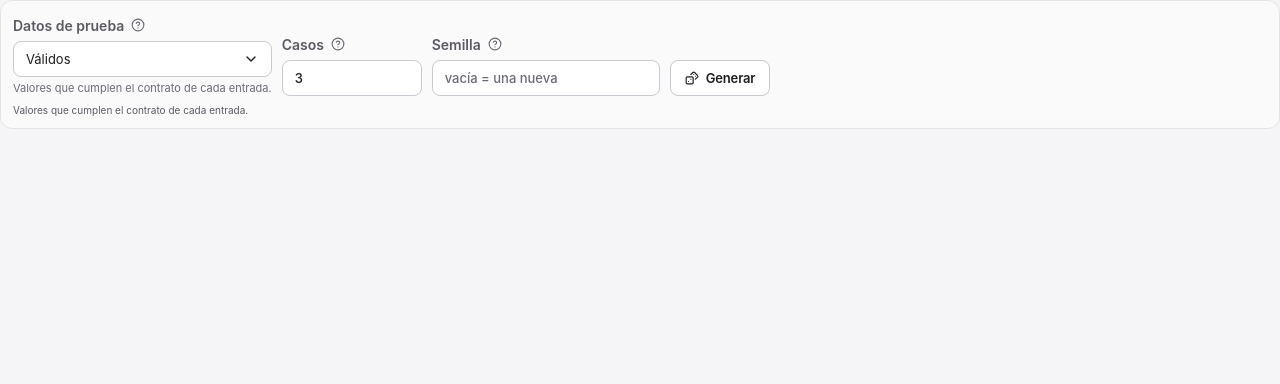
Test: generación de datos de prueba › respeta el tope de casos de cada clase
Replace the text in the number field labelled "Casos" with "99" at x=352, y=78, box [282,60,422,96]
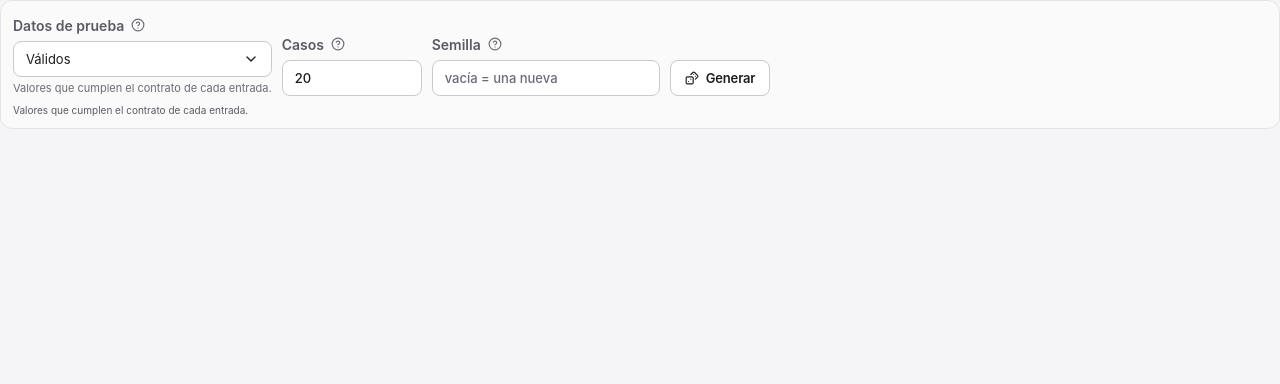
expect the number field labelled "Casos" holds "20": met, box [282,60,422,96]
Click the dropdown named "Datos de prueba" at x=142, y=59, box [13,41,272,77]
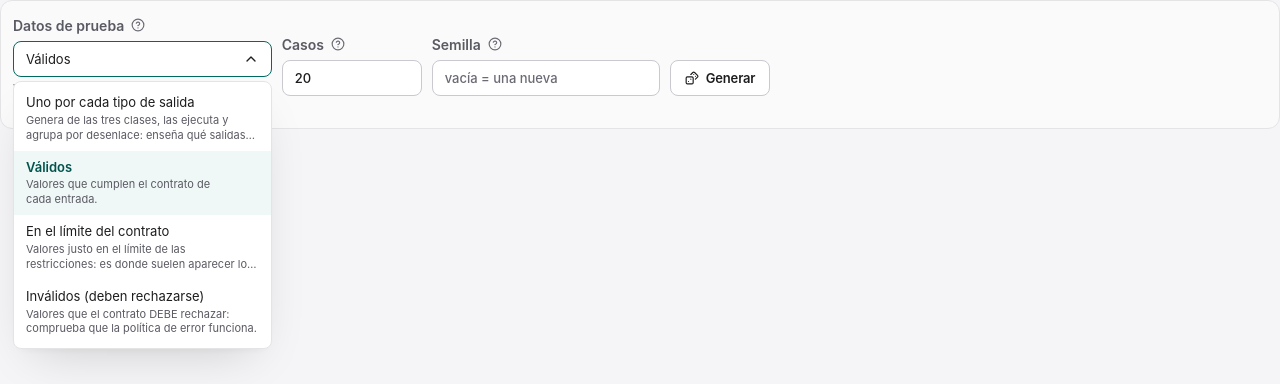
Click the option with aria-label "Genera de las tres clases, las ejecuta y agrupa por desenlac" at x=142, y=118, box [14,86,271,151]
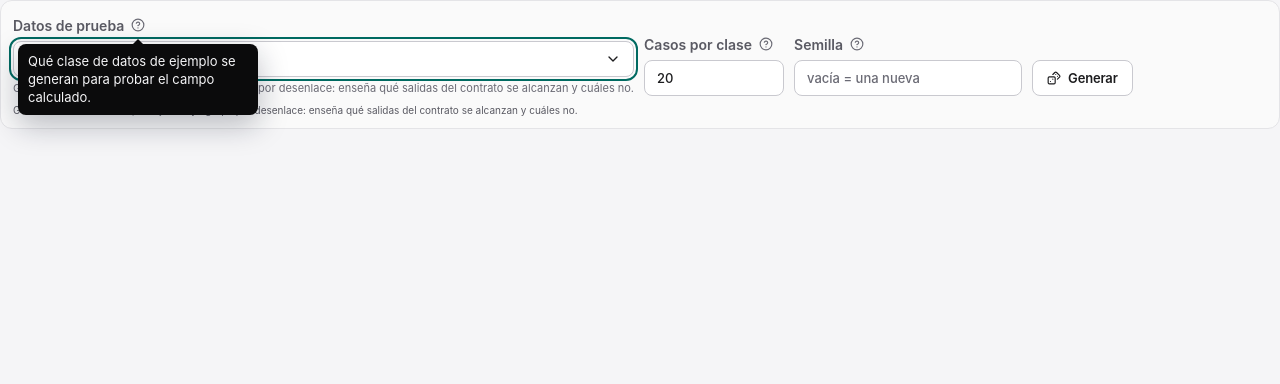
Replace the text in the number field labelled "Casos por clase" with "99" at x=714, y=78, box [644,60,784,96]
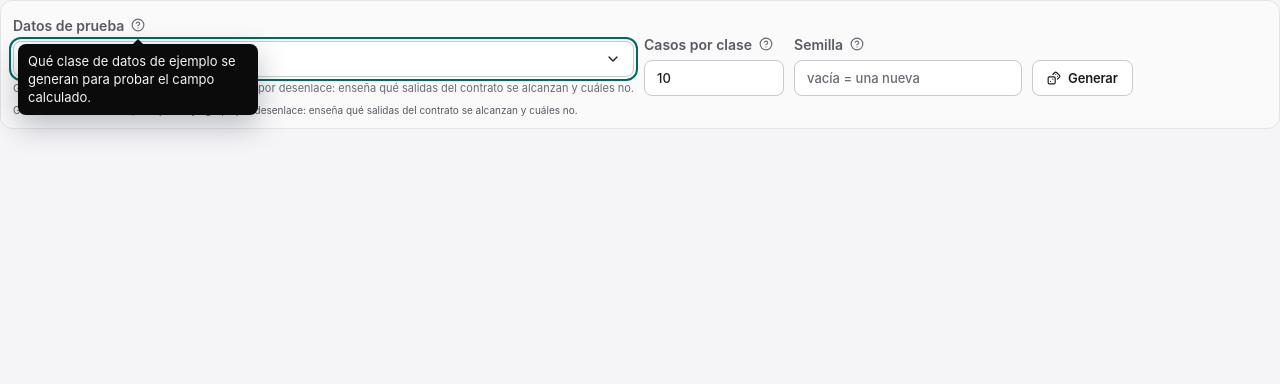
expect the number field labelled "Casos por clase" holds "10": met, box [644,60,784,96]
